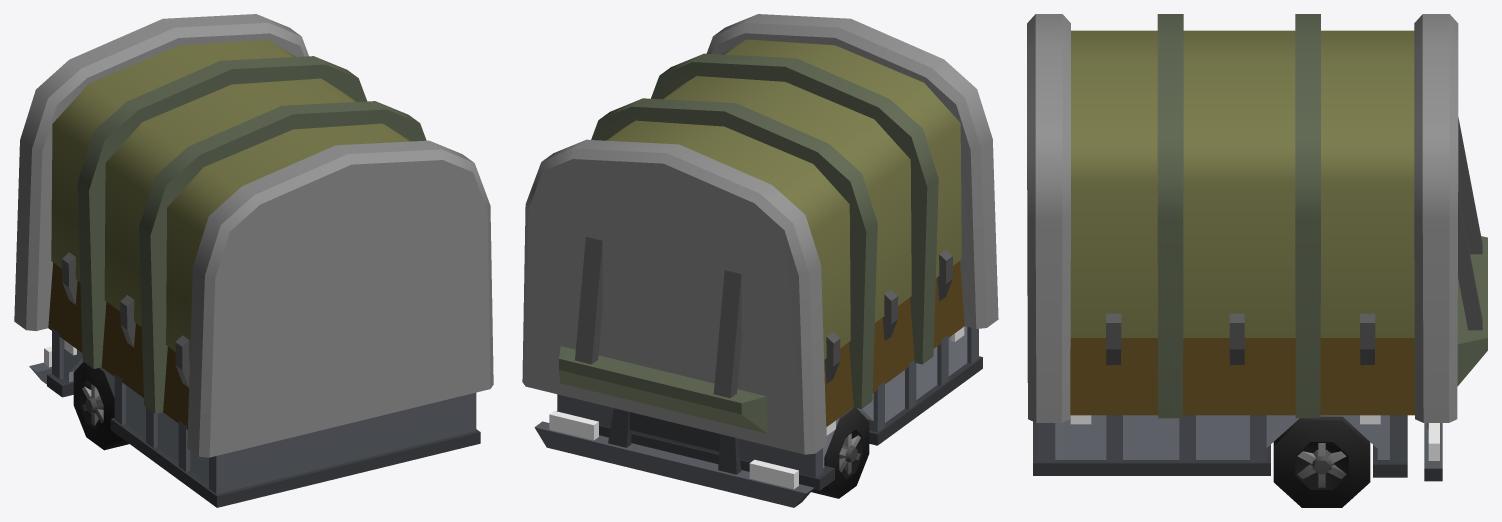
File: cargo_02_A_2.fbx
The picture shows the model from 3 angles, left to right: view 1: azimuth 30°, elevation 25°; view 2: azimuth 150°, elevation 25°; view 3: azimuth 270°, elevation 25°; orthographic projection. The views are drawn at different scales.
Parts seen in each view (by area): view 1: cargo_02_A_2; view 2: cargo_02_A_2; view 3: cargo_02_A_2.
Part boxes in pixels (x1,y1,x2,y2): cargo_02_A_2: (14, 14, 493, 507); cargo_02_A_2: (522, 14, 998, 507); cargo_02_A_2: (1027, 14, 1487, 507).
Size of the model in its own units: 14.44 by 16.5 by 17.45.
